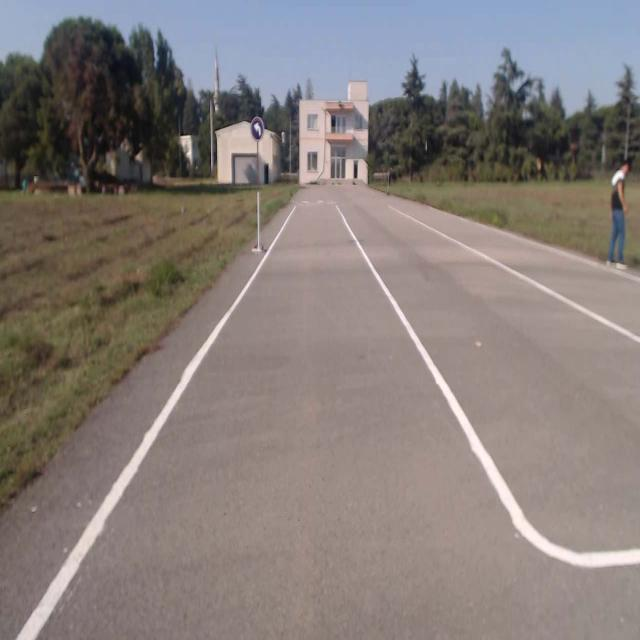sol: (252, 114, 262, 138)
